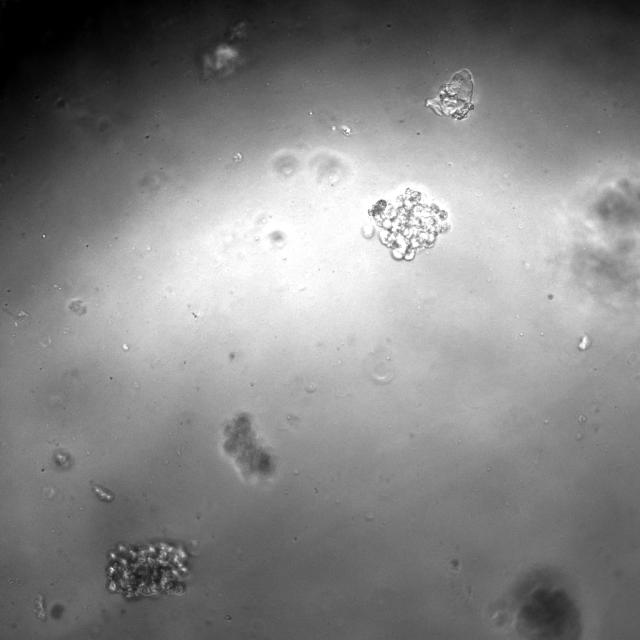organoid: (362, 188, 451, 260), (106, 540, 188, 599), (221, 414, 277, 483)
